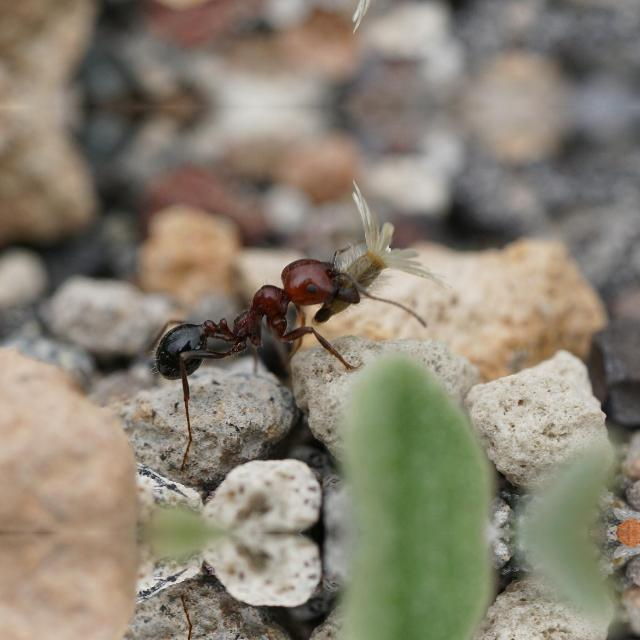Messor: (130, 228, 360, 400)
